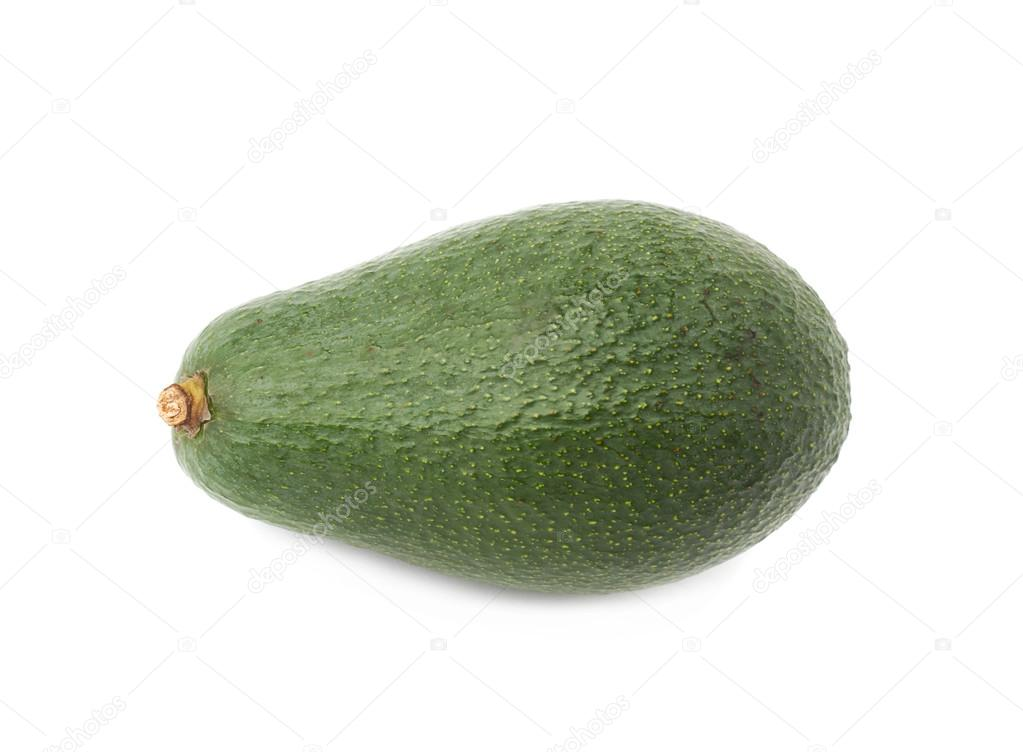abacate: (150, 198, 856, 596)
